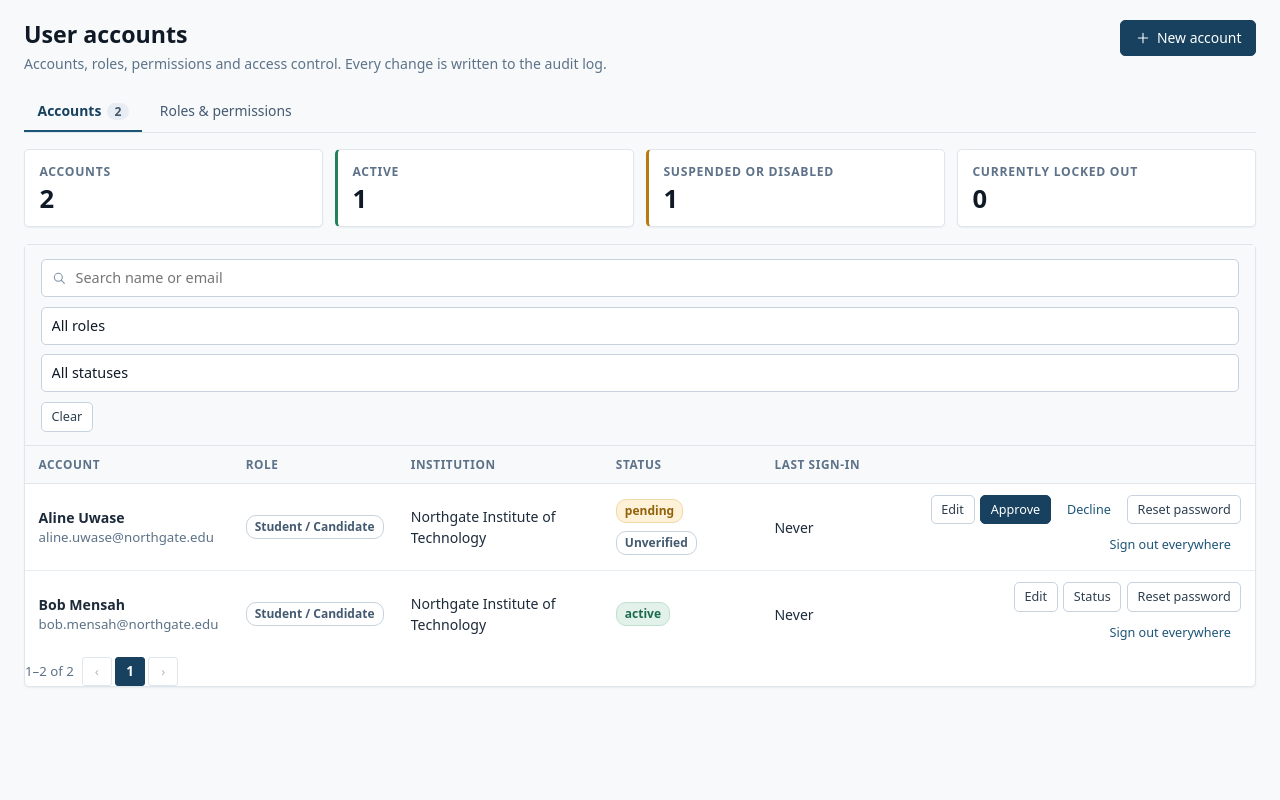
Test: approving a candidate registration › shows what the candidate submitted, and sends nothing until it is confirmed
The width and height of the screenshot is (1280, 800).
Expected: the text "Aline Uwase" is shown, [39,508,125,527]
Click the button "Approve": (1015,509) [980,494,1051,524]
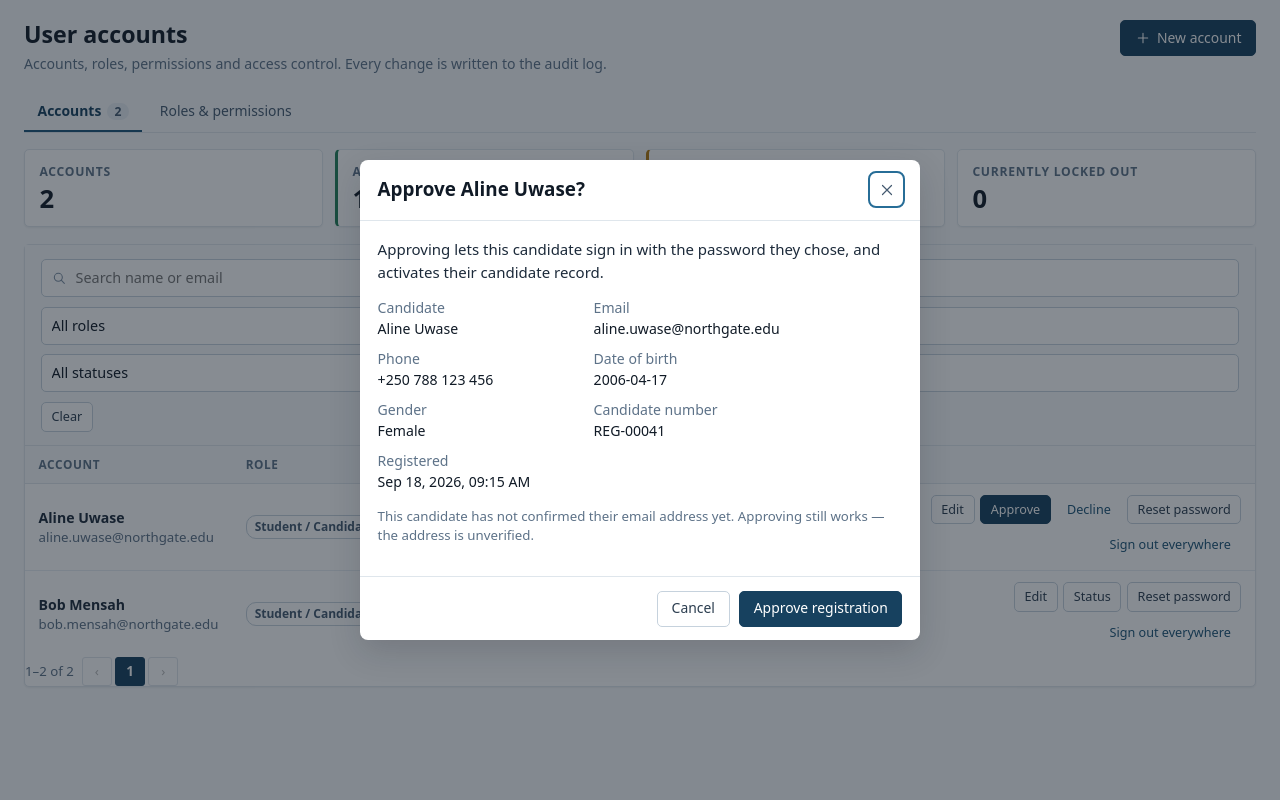
Expected: the heading "Approve Aline Uwase?" is shown, [378,178,585,201]
Expected: the text "+250 788 123 456" is shown, [378,370,493,389]
Expected: the text "2006-04-17" is shown, [594,370,667,389]
Click the button "Cancel": (693,609) [657,590,730,627]
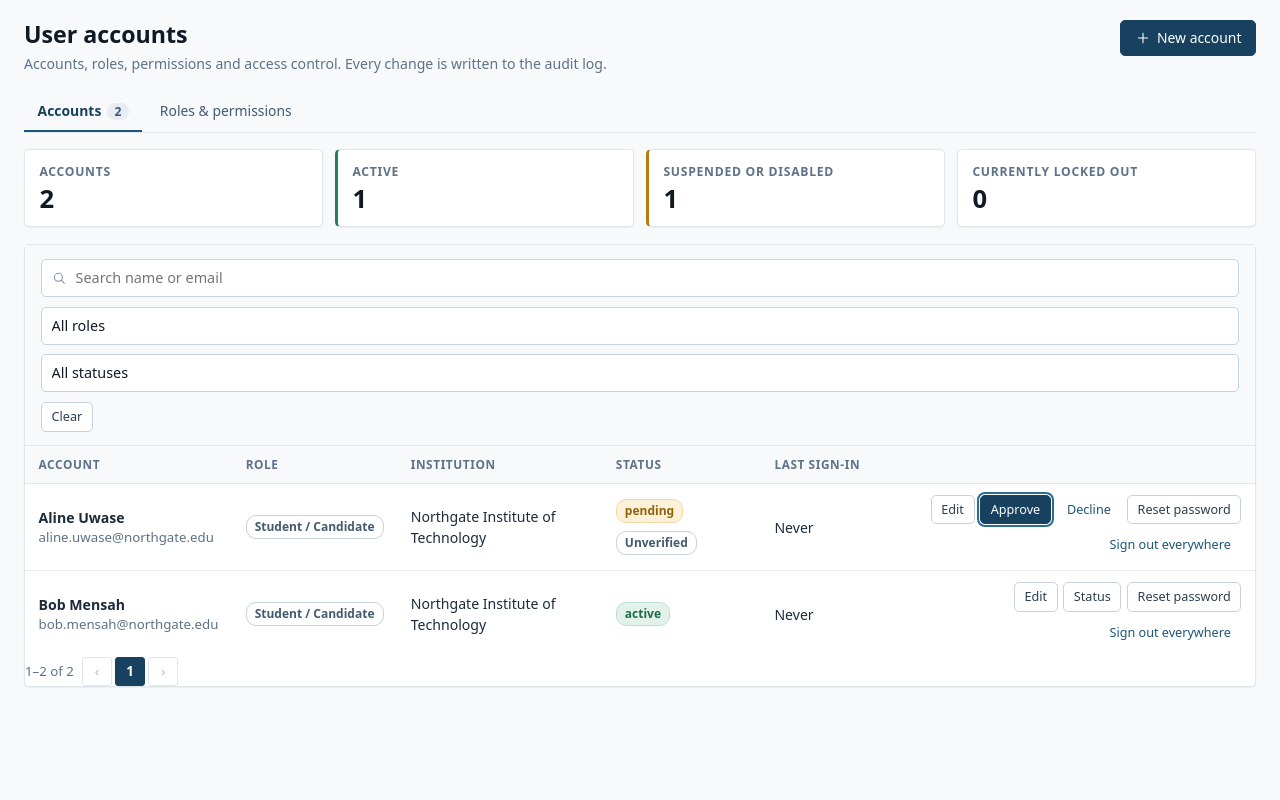
Click the button "Approve": (1015,509) [980,494,1051,524]
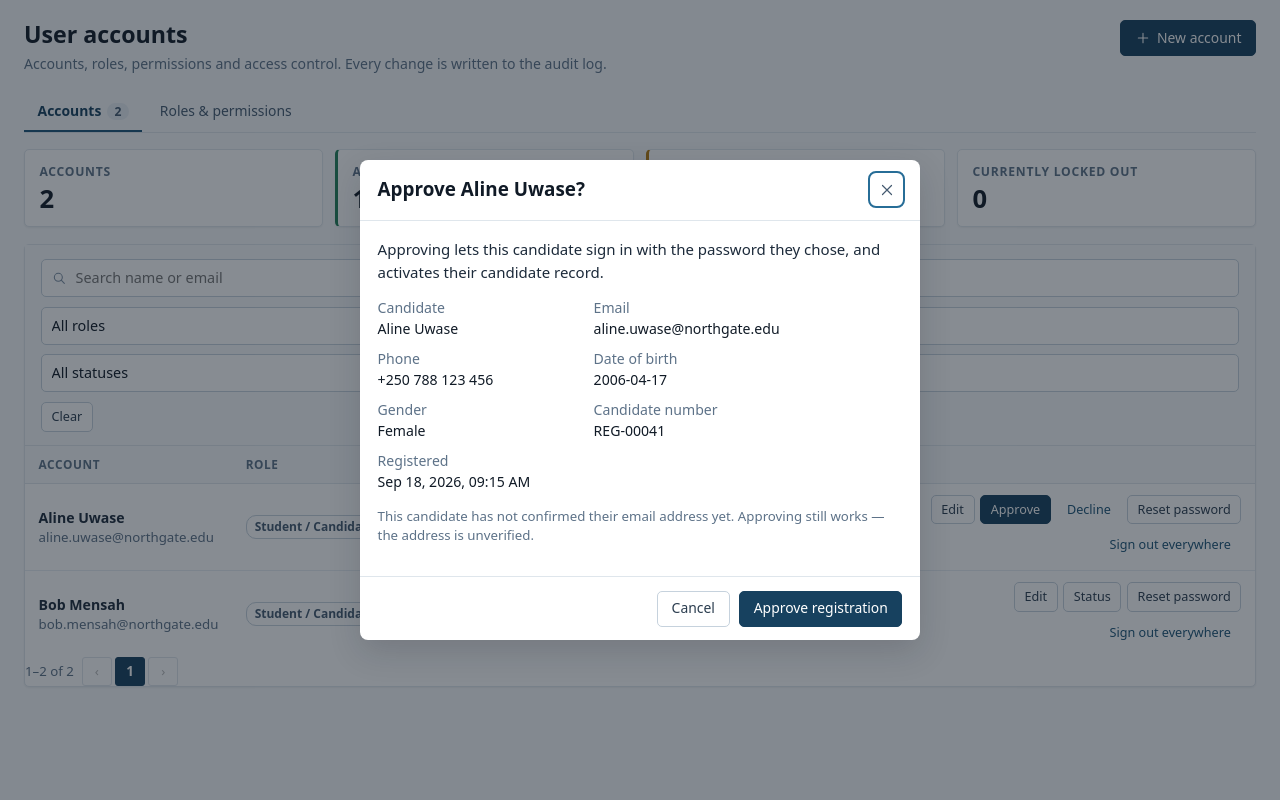
Click the button "Approve registration": (821,609) [739,590,902,627]
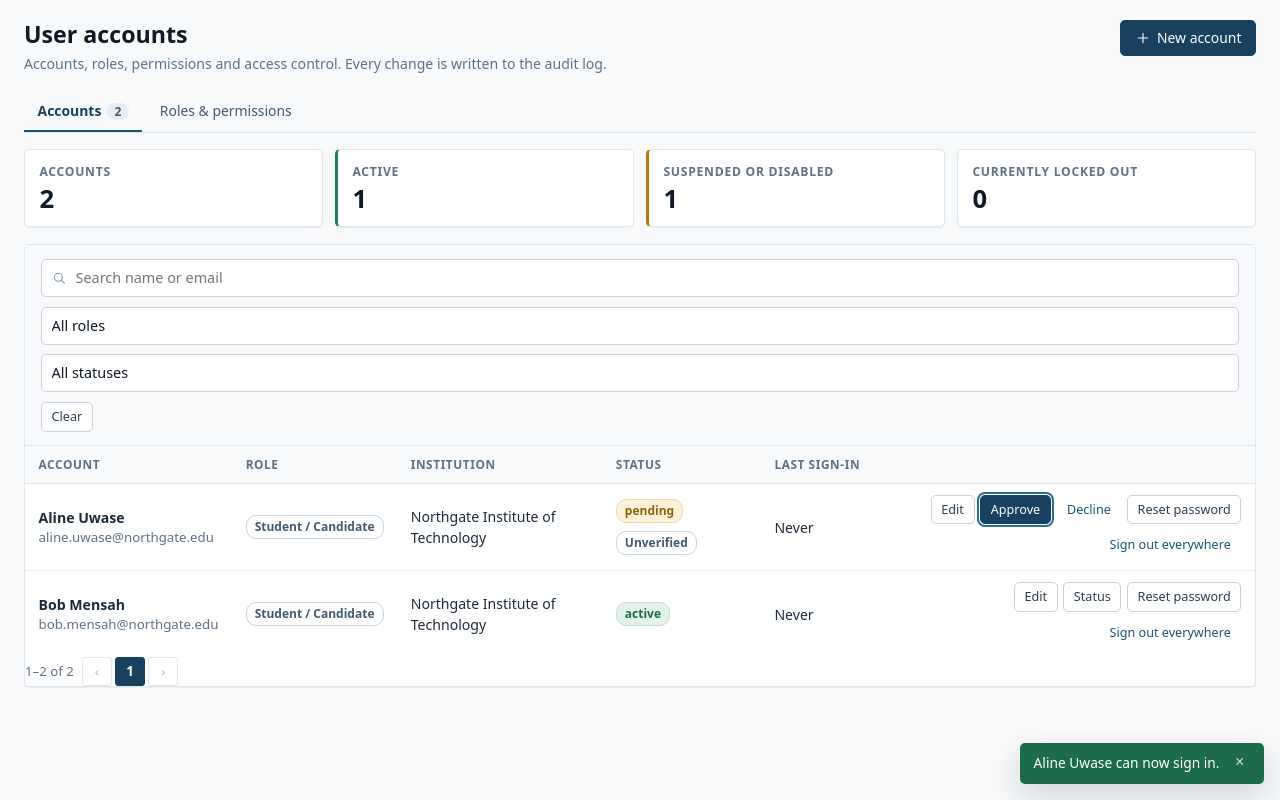
Expected: the text "Aline Uwase can now sign in." is shown, [1034,753,1220,774]
